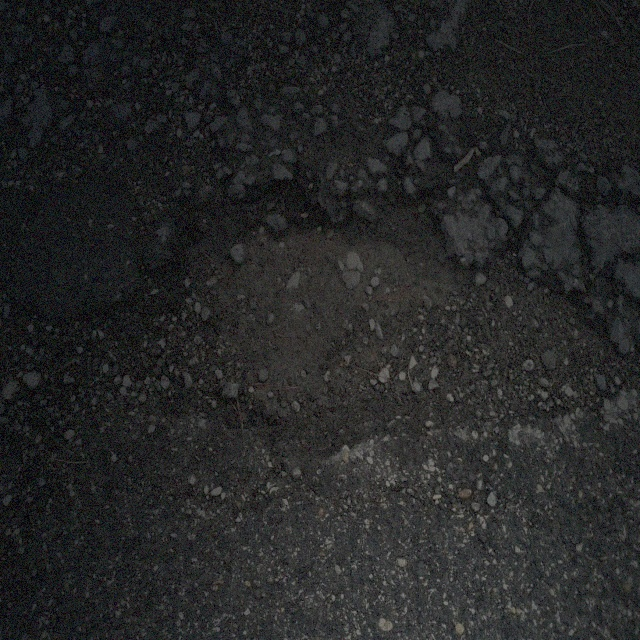pothole: (139, 159, 627, 482)
